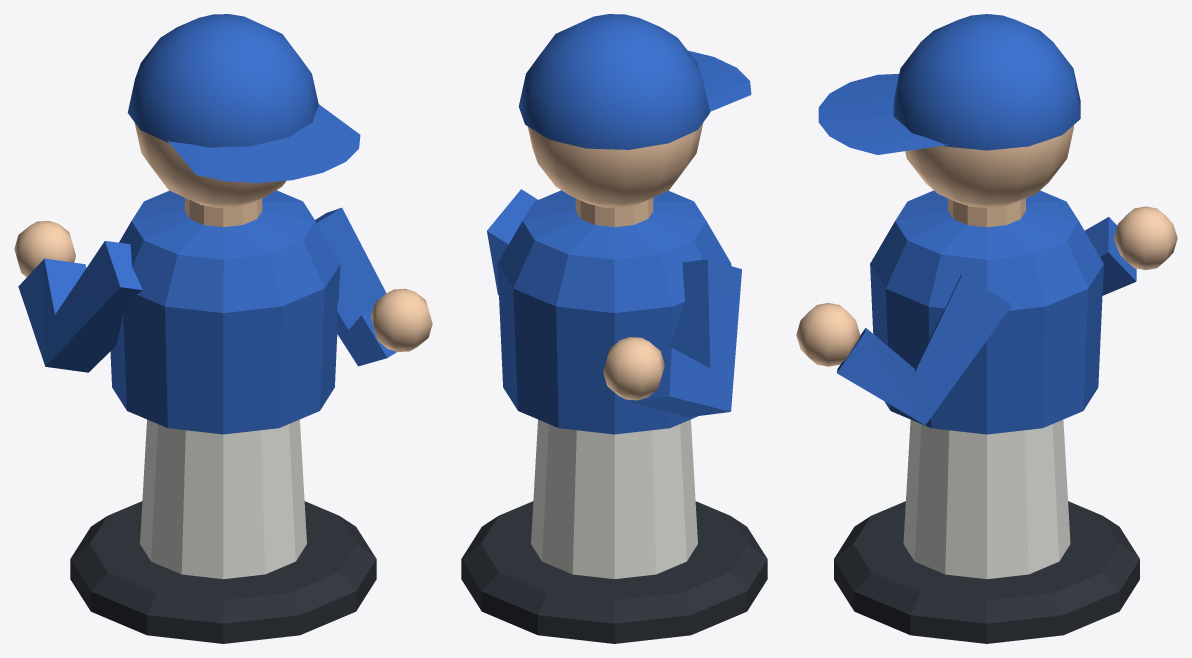
The model's file is runner_blue.obj.
3 views of the same model, side by side, from view 1: azimuth 30°, elevation 25°; view 2: azimuth 150°, elevation 25°; view 3: azimuth 270°, elevation 25° (orthographic).
Visible parts, largest first — view 1: team_blue, fig_base, pants, skin; view 2: team_blue, fig_base, pants, skin; view 3: team_blue, fig_base, pants, skin.
Part boxes in pixels (x1=…): team_blue: x1=18, y1=14, x2=396, y2=434; fig_base: x1=70, y1=501, x2=376, y2=643; pants: x1=140, y1=419, x2=306, y2=579; skin: x1=14, y1=123, x2=432, y2=351; team_blue: x1=487, y1=14, x2=751, y2=434; fig_base: x1=461, y1=501, x2=767, y2=643; pants: x1=531, y1=419, x2=697, y2=579; skin: x1=527, y1=123, x2=703, y2=400; team_blue: x1=818, y1=14, x2=1136, y2=434; fig_base: x1=834, y1=501, x2=1139, y2=643; pants: x1=903, y1=420, x2=1070, y2=579; skin: x1=796, y1=125, x2=1177, y2=366.
Size of the model in its own units: 1.22 by 2.2 by 1.37.
